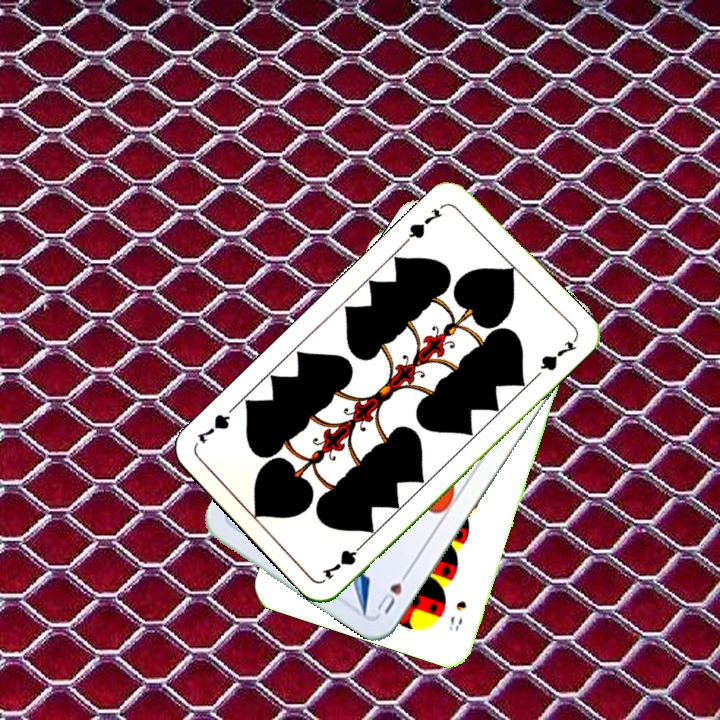G7: (318, 537, 369, 583), (401, 200, 448, 246)
HU: (373, 564, 414, 617)
S8: (444, 596, 469, 634)
